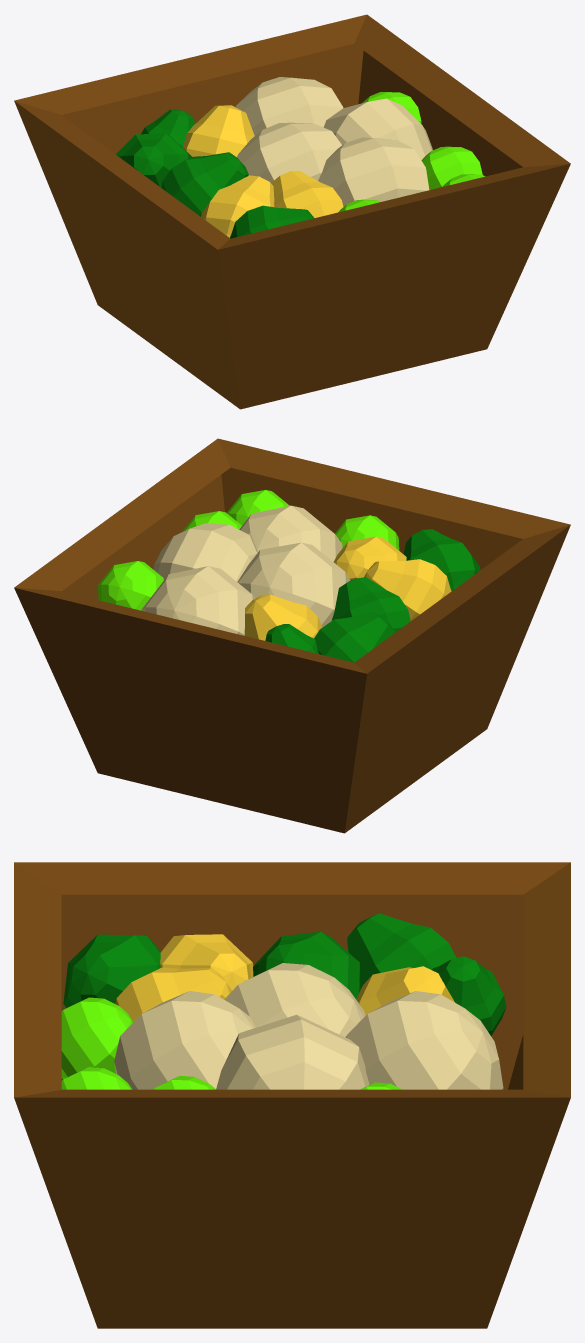
The model's file is Fruit Basket 2.fbx.
3 views of the same model, one above another, from view 1: azimuth 30°, elevation 25°; view 2: azimuth 150°, elevation 25°; view 3: azimuth 270°, elevation 25° (orthographic). The views are drawn at different scales.
Visible parts, largest first — view 1: pSphere16; view 2: pSphere16; view 3: pSphere16.
Part boxes in pixels (box(x1,y1,x2,y2)): pSphere16: box(14, 14, 570, 409); pSphere16: box(14, 438, 570, 833); pSphere16: box(14, 862, 570, 1328).
Bounding box in the file's own units: 1.89 × 1.09 × 1.89.
Materials: 1 (1 with a texture image).
